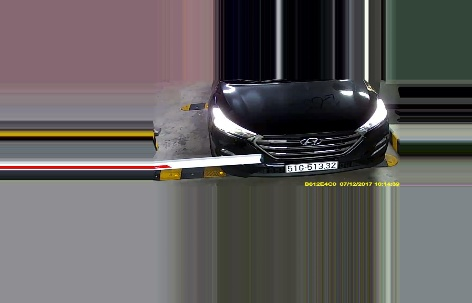plate: (284, 159, 336, 174)
